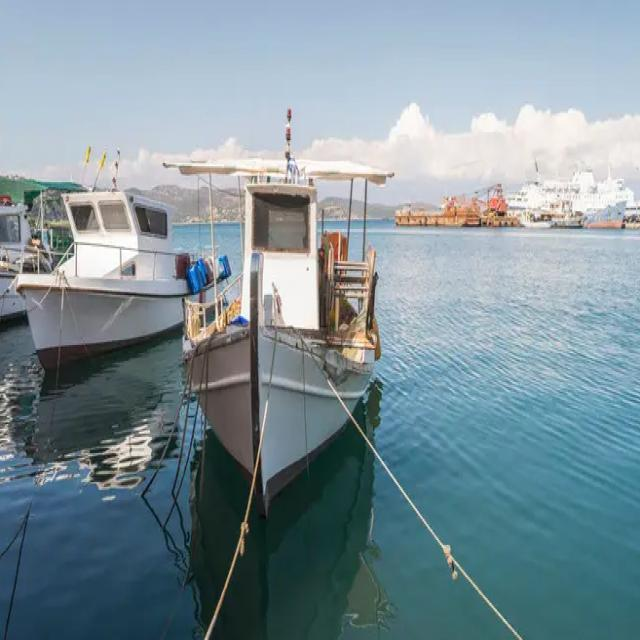fishing boat: (172, 143, 386, 502), (28, 179, 224, 362)
